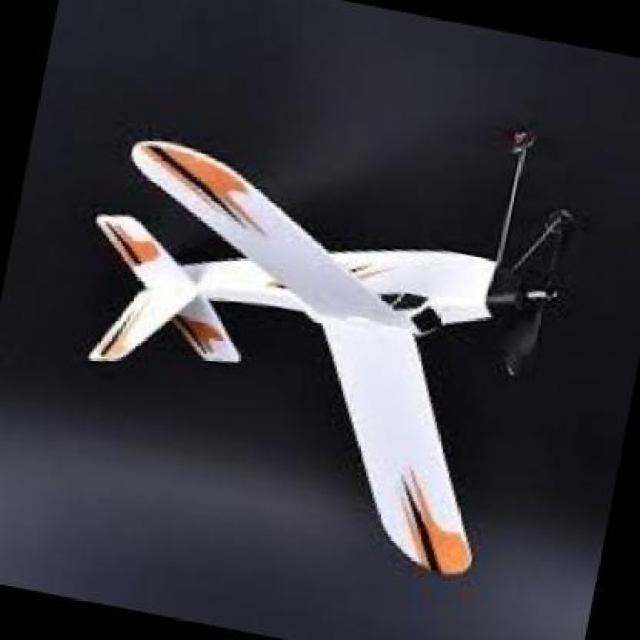iha: (8, 18, 635, 623)
